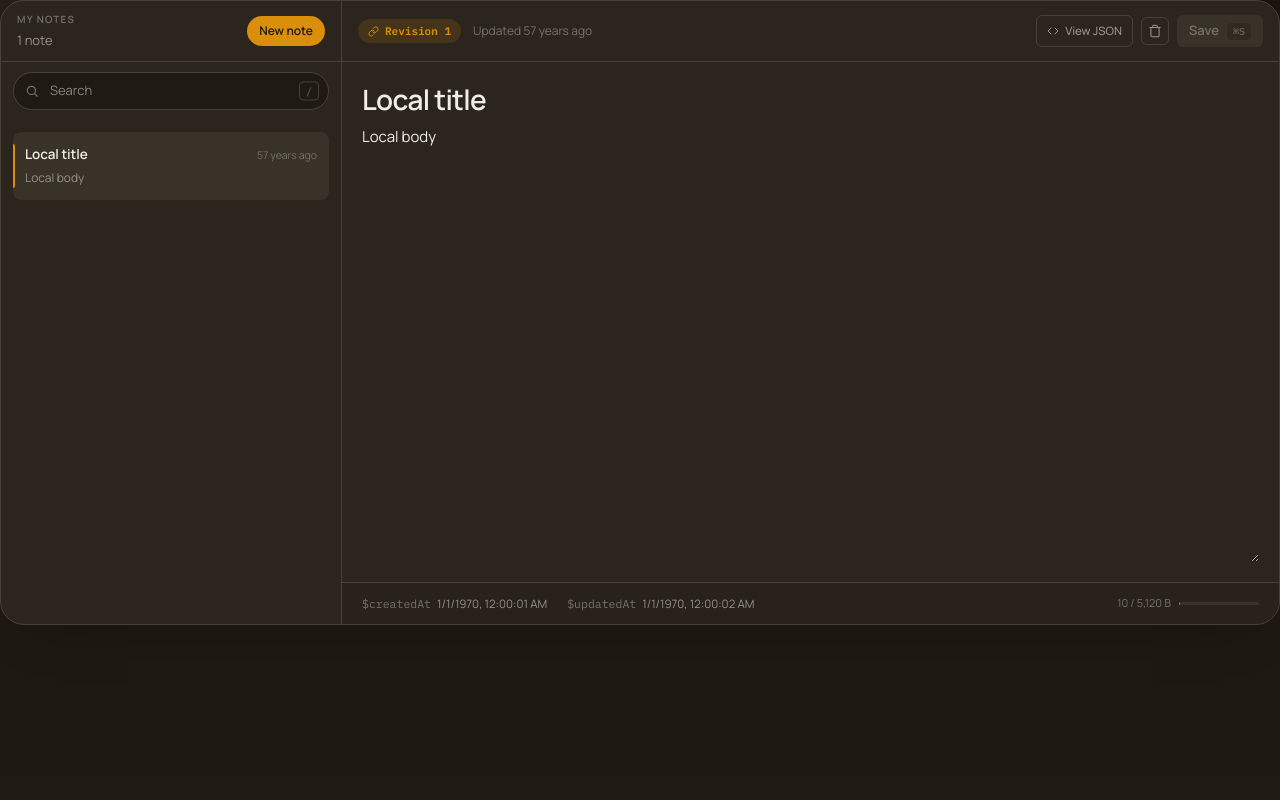
Test: NotesWorkspace › concurrent save handling › does NOT show the conflict warning when a save fails but the chain revision is unchanged
The image size is (1280, 800).
Step 1. Replace the text in the text box named "body" with "User edited body" → (810, 341), box [362, 121, 1259, 562]
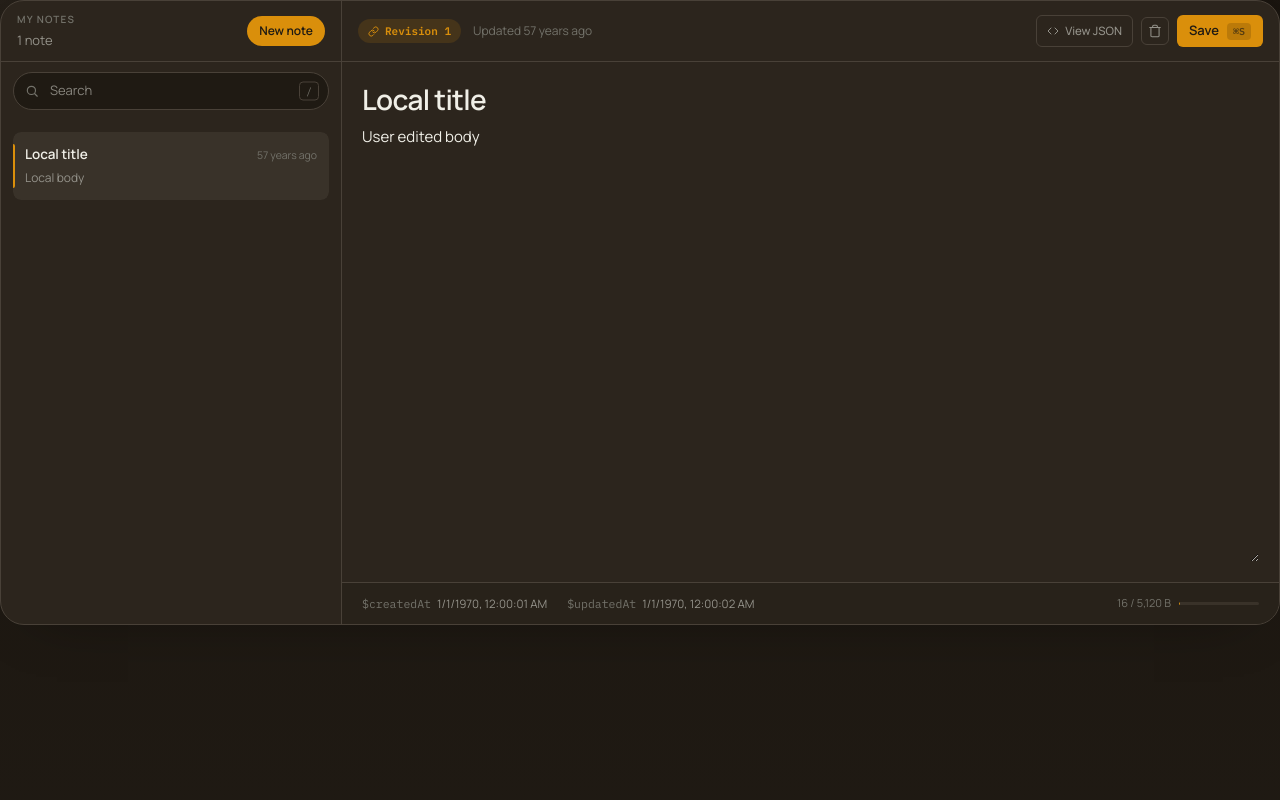
Step 2. Click the button "Save ⌘S" → (1220, 31), box [1177, 15, 1263, 47]
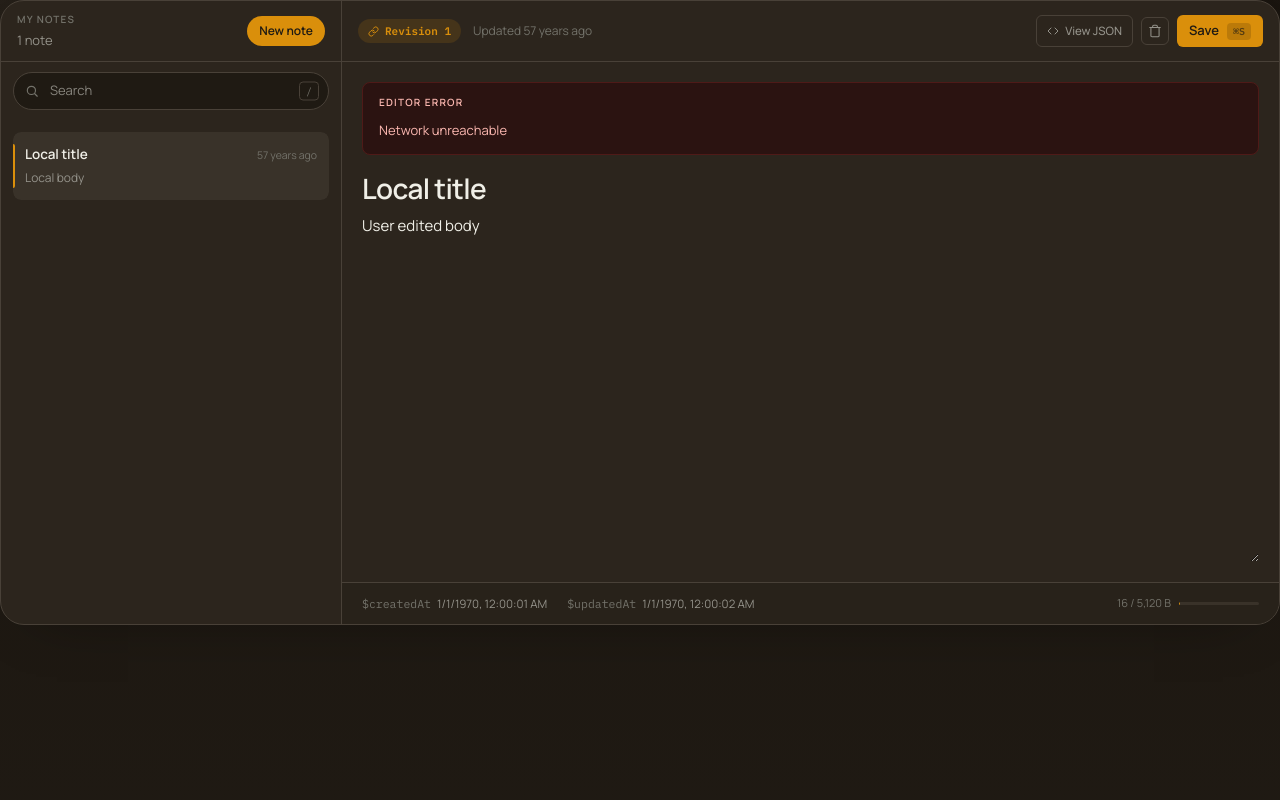
expect the text "Network unreachable" is shown: met, box [379, 121, 507, 139]
